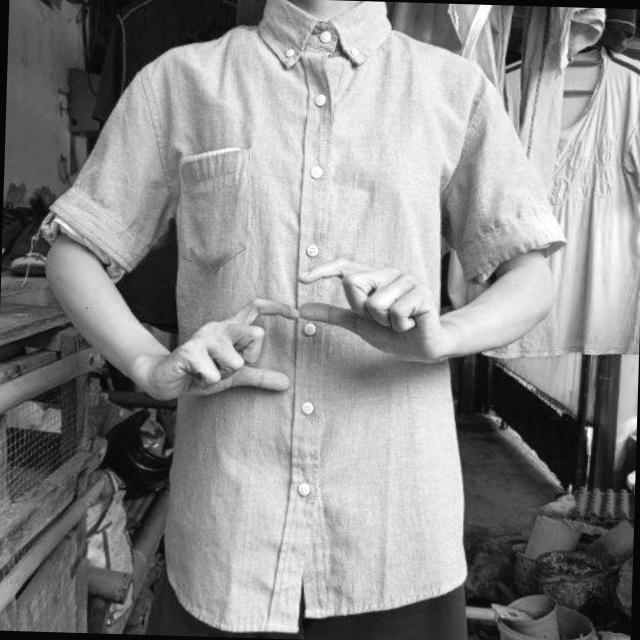S: (202, 253, 384, 403)
